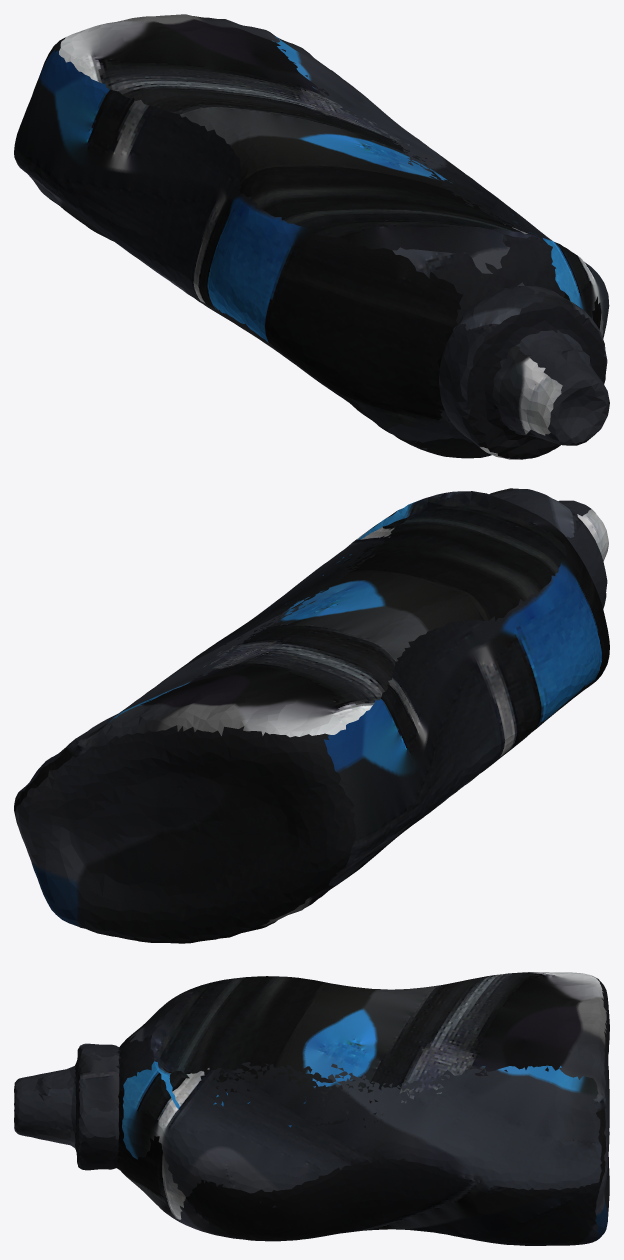
The picture shows the model from 3 angles, top to bottom: view 1: azimuth 30°, elevation 25°; view 2: azimuth 150°, elevation 25°; view 3: azimuth 270°, elevation 25°; orthographic projection. The views are drawn at different scales.
Visible parts, largest first — view 1: textured_simple.obj; view 2: textured_simple.obj; view 3: textured_simple.obj.
Part boxes in pixels (x1,y1,x2,y2): textured_simple.obj: (14,14,609,459); textured_simple.obj: (14,488,609,943); textured_simple.obj: (14,972,609,1245).
Size of the model in its own units: 0.0972 by 0.0666 by 0.1914.
